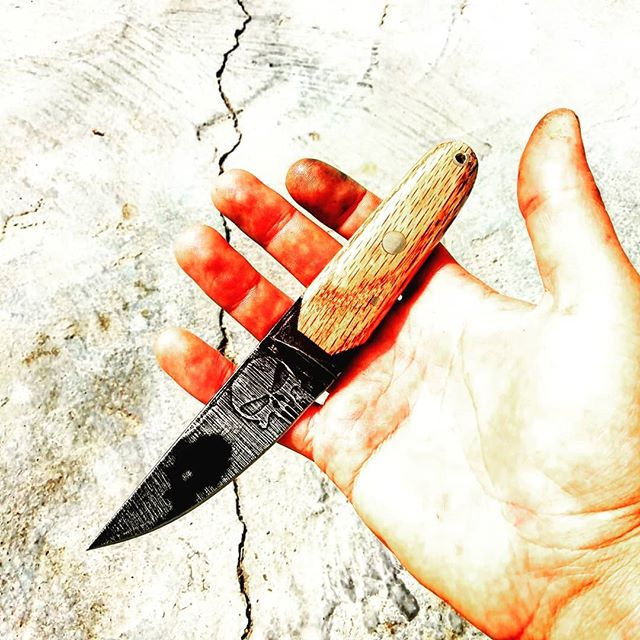knife: (86, 140, 478, 551)
